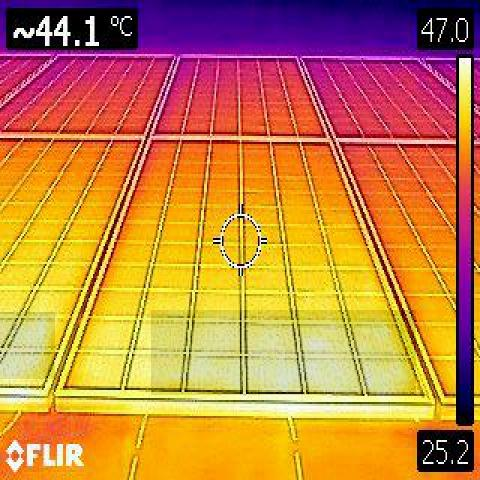fault: (151, 310, 416, 395), (0, 312, 55, 379)
